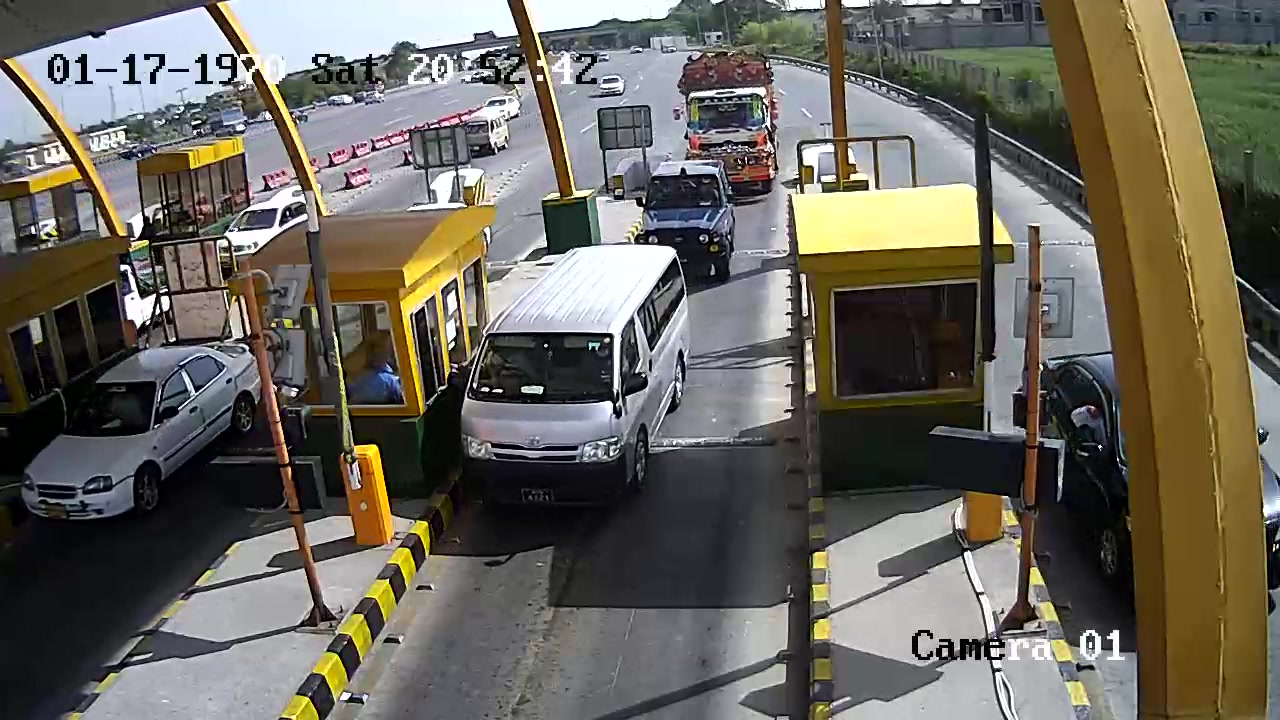F2: (454, 243, 690, 511)
